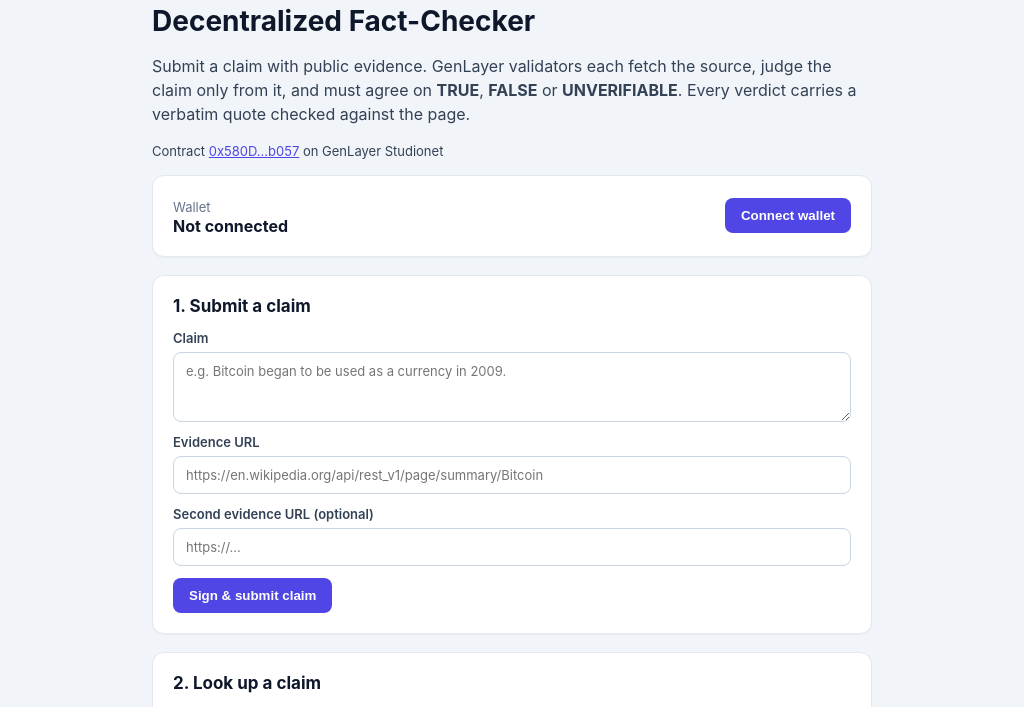
it: App › checks a pending claim and shows the verdict with its quote
This screenshot has width=1024, height=707.
Click the button "Connect wallet" at (788, 216), box [725,198,851,233]
(page scrolled)
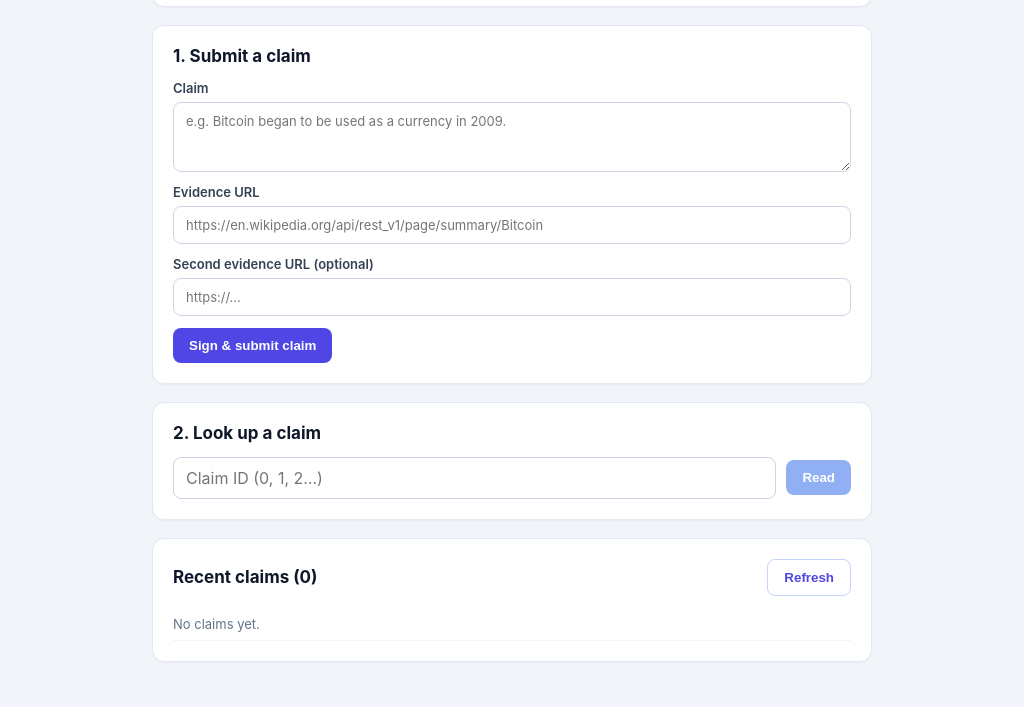
Type "0" into the field labelled "Claim ID" at (475, 478), box [173,456,776,498]
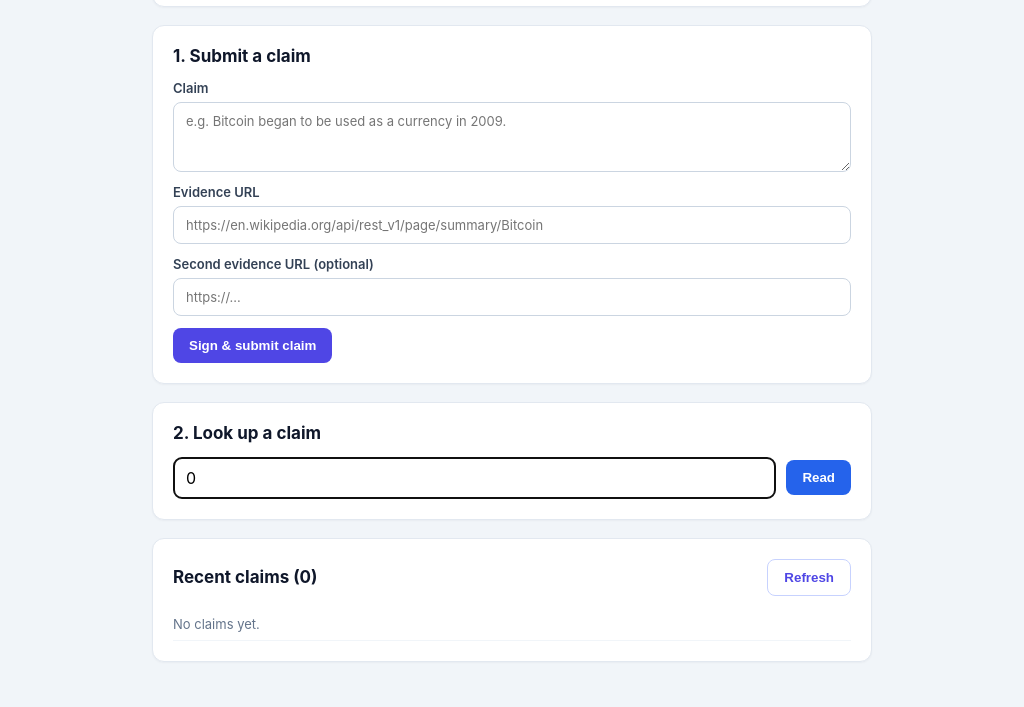
Click the button "Read" at (819, 478), box [786,460,851,495]
(page scrolled)
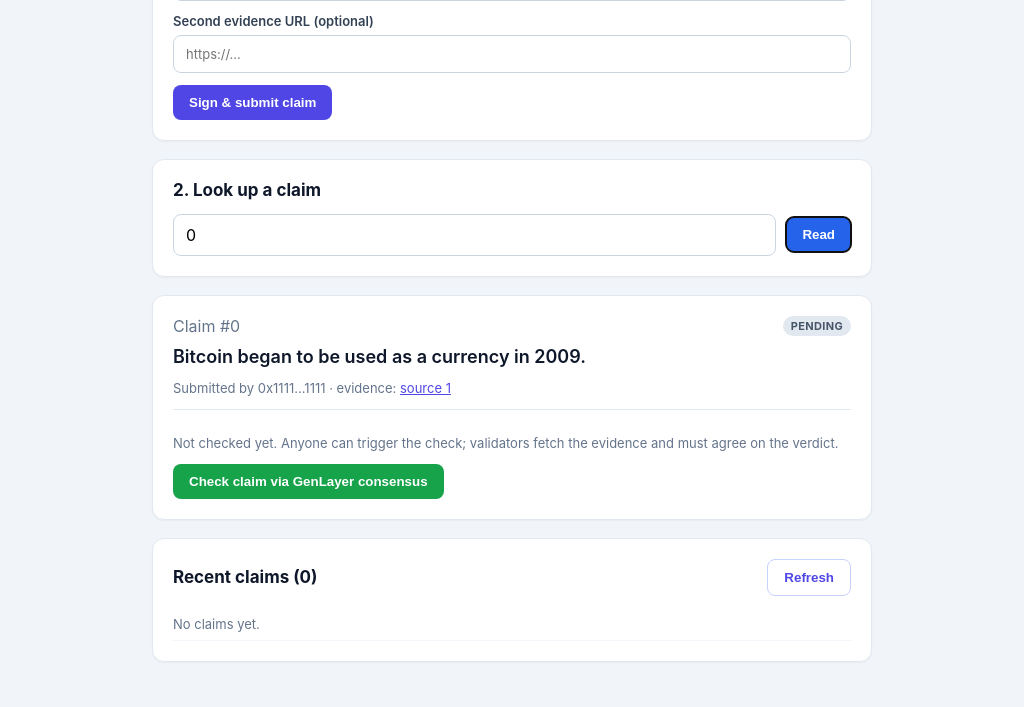
Click the button "Check claim via GenLayer consensus" at (308, 481), box [173,464,444,498]
(page scrolled)
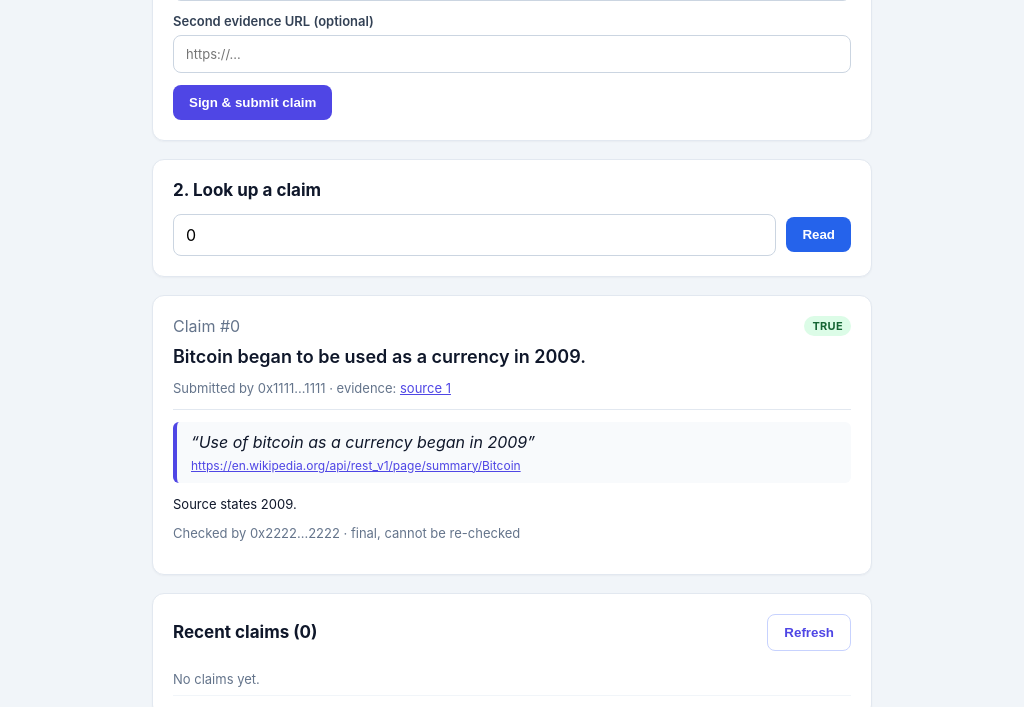
Check: the text with test id "verdict-badge" reads "TRUE", box [812,318,843,332]
Check: the element with test id "verdict" shows "Use of bitcoin as a currency began in 2009", box [199,432,527,452]
Check: the button "Check claim via GenLayer consensus" is gone
